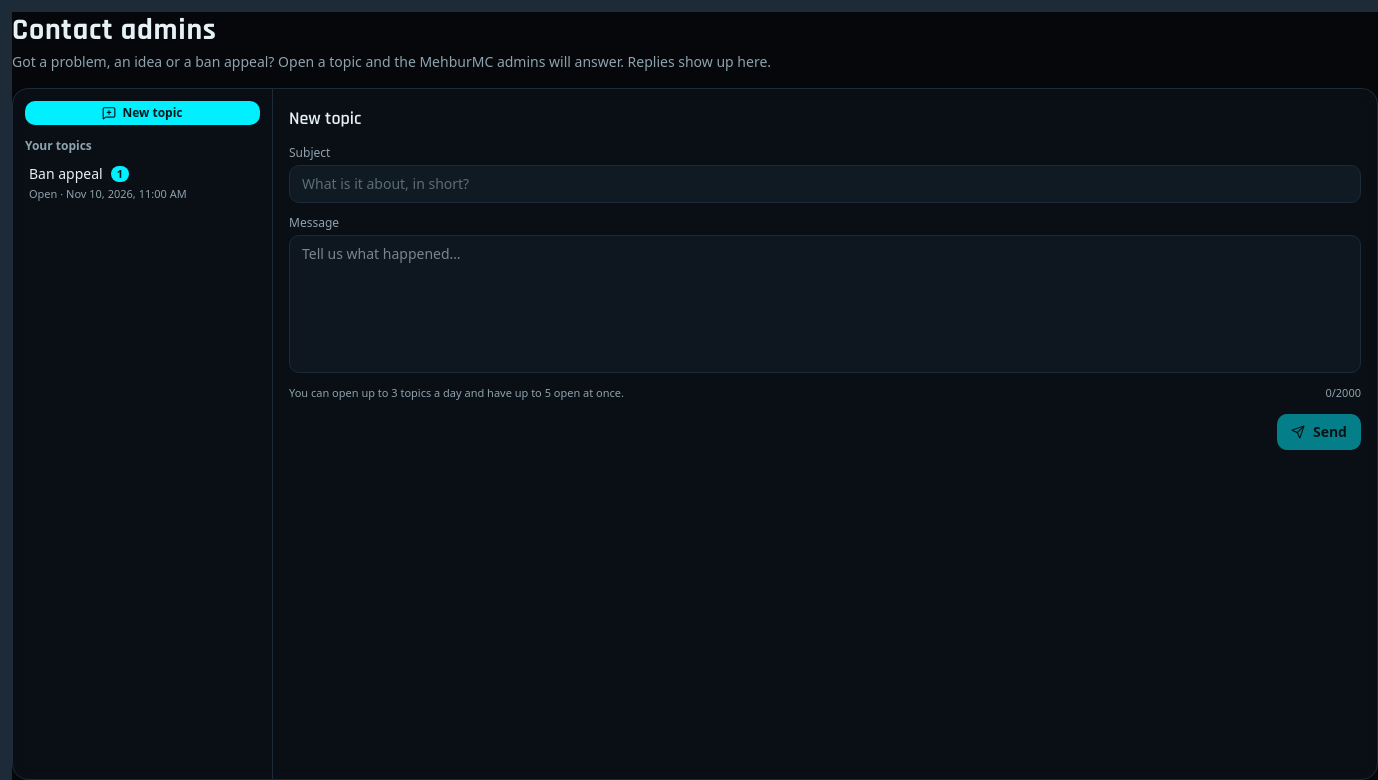
Scenario: Contact admins › labels replies as the admin team and marks them read
Click the button "Ban appeal 1 Open · Nov 10, 2026, 11:00 AM". click: (142,183)
box: top-left (21, 158), bottom-right (264, 208)
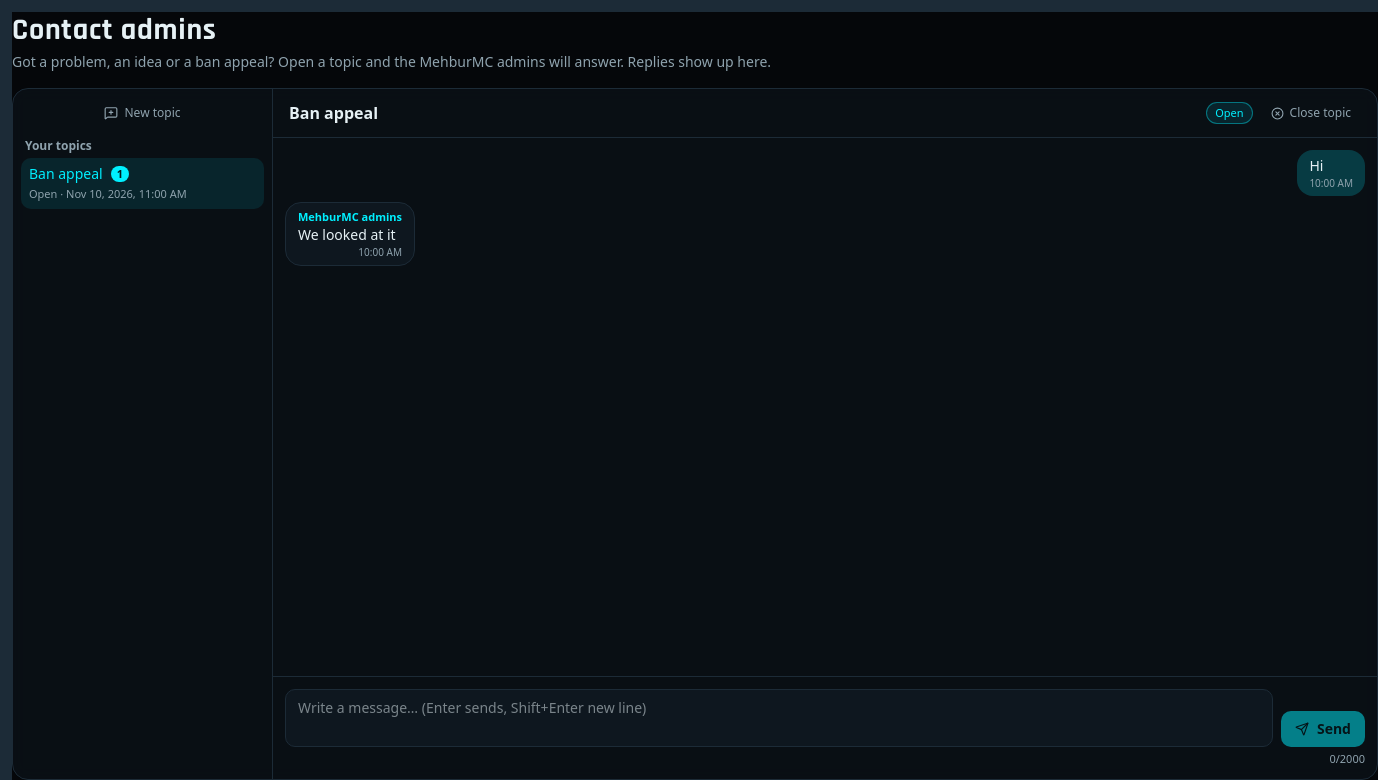
Now the text "We looked at it" is shown, box top-left (298, 225), bottom-right (402, 245)
Now the text "MehburMC admins" is shown, box top-left (298, 209), bottom-right (402, 225)
